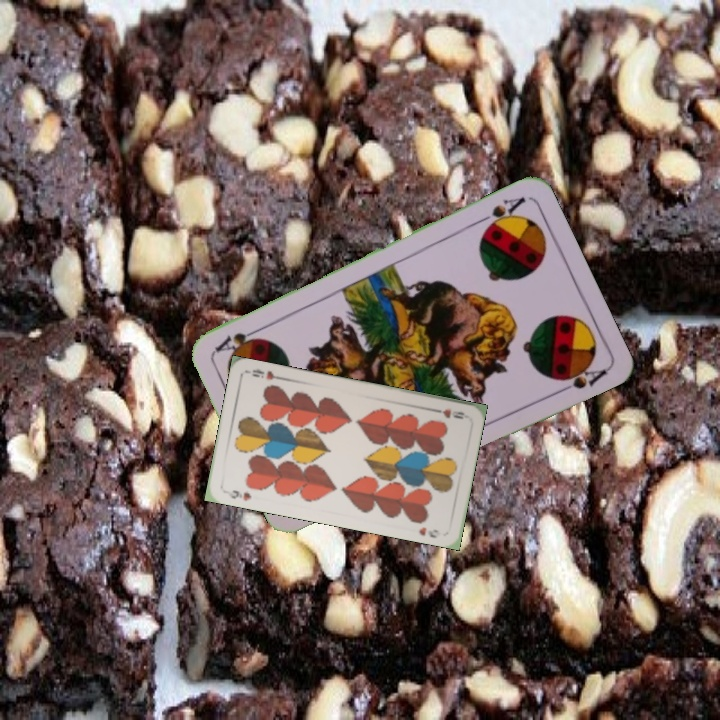H9: (429, 404, 467, 421), (221, 486, 254, 503)
SA: (473, 192, 528, 235)
